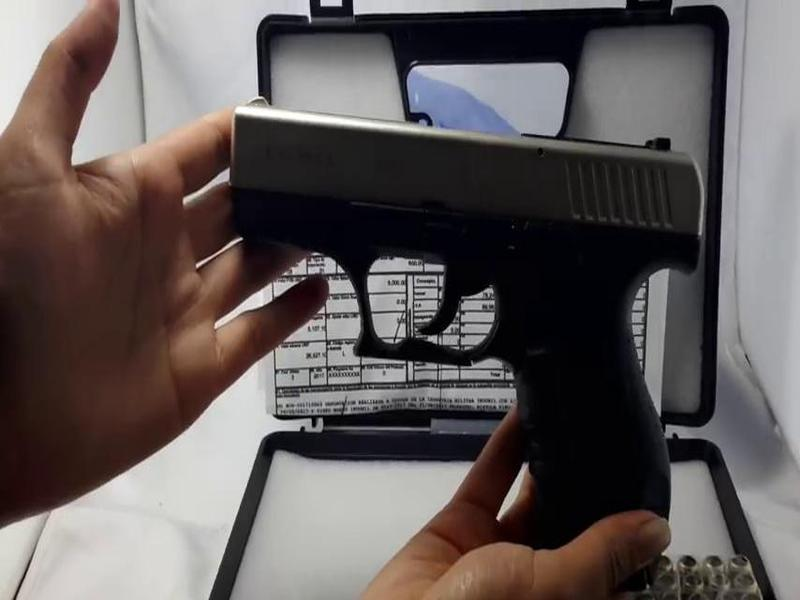Pistola: (173, 77, 725, 543)
